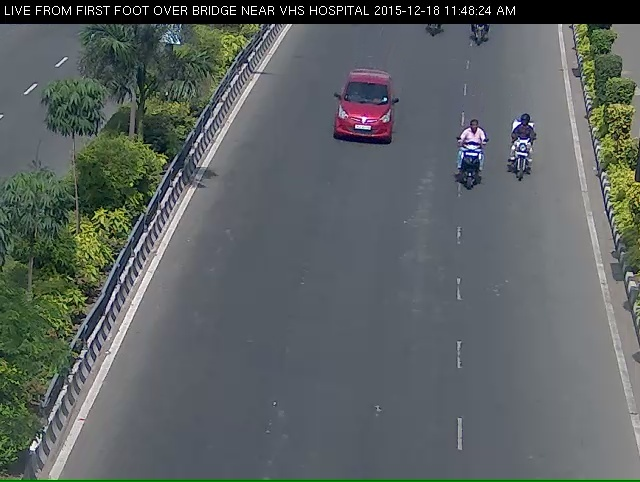Car: (324, 74, 396, 159)
Person: (453, 125, 487, 198), (509, 117, 541, 185)
